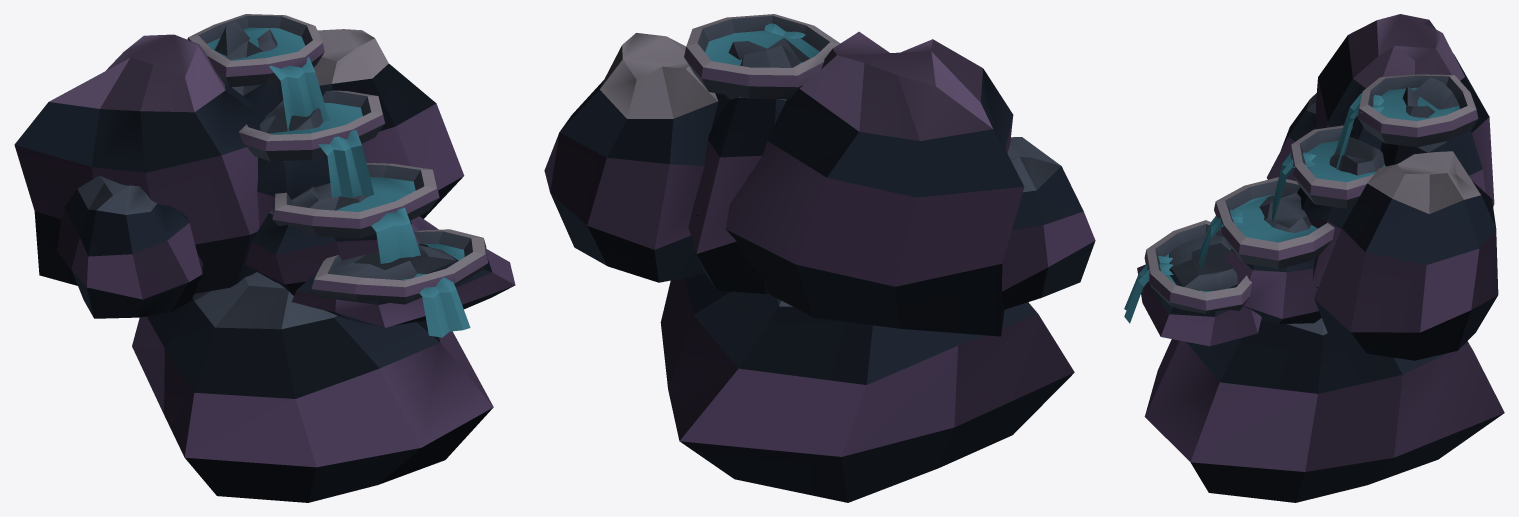
File: grotto-calcite-spring.glb
3 renders of one model, left to right at view 1: azimuth 30°, elevation 25°; view 2: azimuth 150°, elevation 25°; view 3: azimuth 270°, elevation 25°, orthographic. The views are drawn at different scales.
Visible parts, largest first — view 1: grotto-calcite-spring; view 2: grotto-calcite-spring; view 3: grotto-calcite-spring.
Part boxes in pixels (x1=…): grotto-calcite-spring: x1=14, y1=14, x2=515, y2=502; grotto-calcite-spring: x1=544, y1=14, x2=1095, y2=502; grotto-calcite-spring: x1=1124, y1=14, x2=1504, y2=502.
Size of the model in its own units: 9.56 by 8.45 by 7.77.
